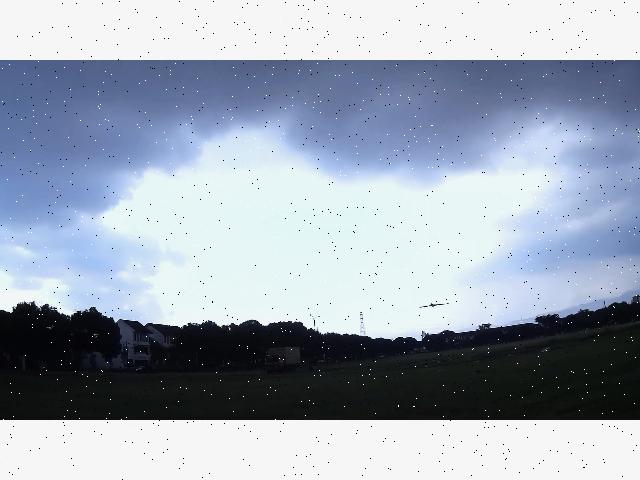Anti-Drone: (419, 302, 449, 308)
